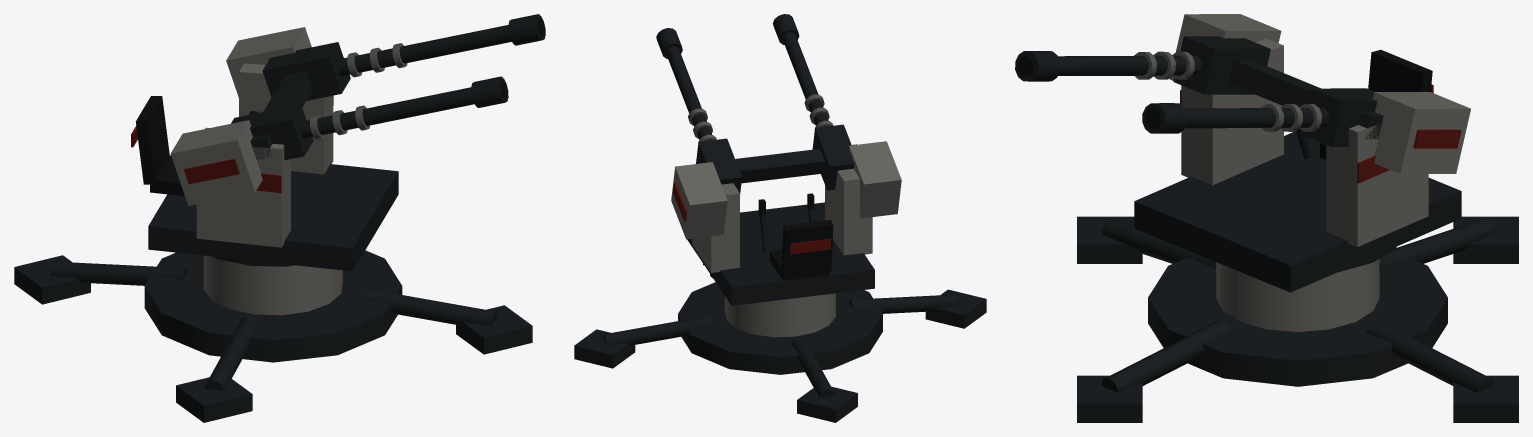
3 renders of one model, left to right at view 1: azimuth 30°, elevation 25°; view 2: azimuth 150°, elevation 25°; view 3: azimuth 270°, elevation 25°, orthographic. The views are drawn at different scales.
Parts seen in each view (by area): view 1: aa-gun-manned-fleet-machine, turret-fleet-machine, turret-fleet-armor, elevation-fleet-armor, aa-barrel-right-fleet-machine, aa-gun-manned-fleet-armor, aa-barrel-left-fleet-machine, turret-fleet-rubber, elevation-fleet-machine, elevation-fleet-red, aa-barrel-right-fleet-edge, aa-barrel-left-fleet-edge (+1 smaller); view 2: aa-gun-manned-fleet-machine, turret-fleet-machine, elevation-fleet-armor, turret-fleet-armor, aa-gun-manned-fleet-armor, aa-barrel-left-fleet-machine, aa-barrel-right-fleet-machine, turret-fleet-rubber, elevation-fleet-machine, turret-fleet-red, aa-barrel-left-fleet-edge, aa-barrel-right-fleet-edge; view 3: aa-gun-manned-fleet-machine, turret-fleet-machine, turret-fleet-armor, elevation-fleet-armor, aa-gun-manned-fleet-armor, aa-barrel-left-fleet-machine, aa-barrel-right-fleet-machine, elevation-fleet-machine, turret-fleet-rubber, aa-barrel-left-fleet-edge, aa-barrel-right-fleet-edge, elevation-fleet-red (+1 smaller).
Part boxes in pixels (<box>): aa-gun-manned-fleet-machine: <box>14,250,532,422</box>; turret-fleet-machine: <box>148,164,398,271</box>; turret-fleet-armor: <box>196,63,333,247</box>; elevation-fleet-armor: <box>170,27,311,205</box>; aa-barrel-right-fleet-machine: <box>262,14,545,100</box>; aa-gun-manned-fleet-armor: <box>203,255,342,315</box>; aa-barrel-left-fleet-machine: <box>231,76,508,160</box>; turret-fleet-rubber: <box>135,96,258,196</box>; elevation-fleet-machine: <box>250,71,312,159</box>; elevation-fleet-red: <box>184,158,239,184</box>; aa-barrel-right-fleet-edge: <box>347,43,407,77</box>; aa-barrel-left-fleet-edge: <box>310,105,370,139</box>; aa-gun-manned-fleet-machine: <box>574,263,986,422</box>; turret-fleet-machine: <box>687,202,874,305</box>; elevation-fleet-armor: <box>671,141,901,239</box>; turret-fleet-armor: <box>692,168,872,272</box>; aa-gun-manned-fleet-armor: <box>725,293,835,337</box>; aa-barrel-left-fleet-machine: <box>773,14,854,190</box>; aa-barrel-right-fleet-machine: <box>656,28,741,193</box>; turret-fleet-rubber: <box>758,193,833,280</box>; elevation-fleet-machine: <box>696,144,856,183</box>; turret-fleet-red: <box>790,238,830,254</box>; aa-barrel-left-fleet-edge: <box>804,94,833,129</box>; aa-barrel-right-fleet-edge: <box>688,108,716,141</box>; aa-gun-manned-fleet-machine: <box>1077,216,1518,422</box>; turret-fleet-machine: <box>1134,128,1461,292</box>; turret-fleet-armor: <box>1181,38,1428,246</box>; elevation-fleet-armor: <box>1169,14,1470,173</box>; aa-gun-manned-fleet-armor: <box>1216,258,1379,331</box>; aa-barrel-left-fleet-machine: <box>1015,36,1270,94</box>; aa-barrel-right-fleet-machine: <box>1142,88,1377,146</box>; elevation-fleet-machine: <box>1229,60,1383,139</box>; turret-fleet-rubber: <box>1320,49,1432,159</box>; aa-barrel-left-fleet-edge: <box>1134,51,1194,79</box>; aa-barrel-right-fleet-edge: <box>1261,104,1321,131</box>; elevation-fleet-red: <box>1413,129,1461,148</box>.
Size of the model in its own units: 19.28 by 14.29 by 19.13.
